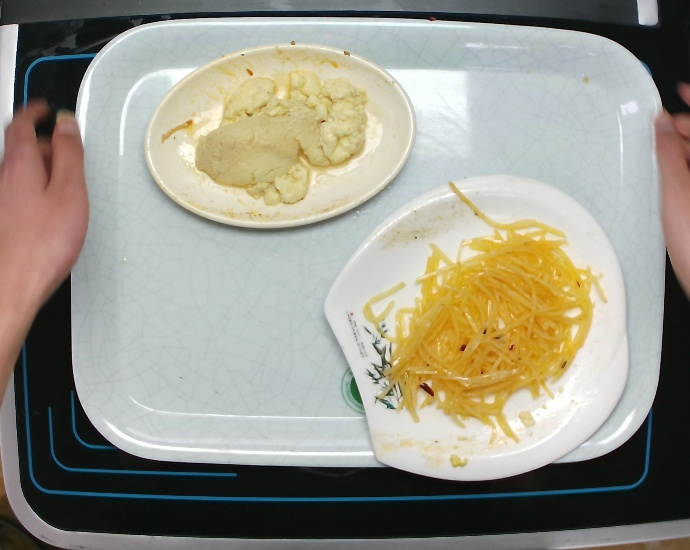JYsf-Mian_Pan: (321, 169, 631, 484)
JYsf-Tuo_Yuan_Wan: (141, 40, 418, 232)
